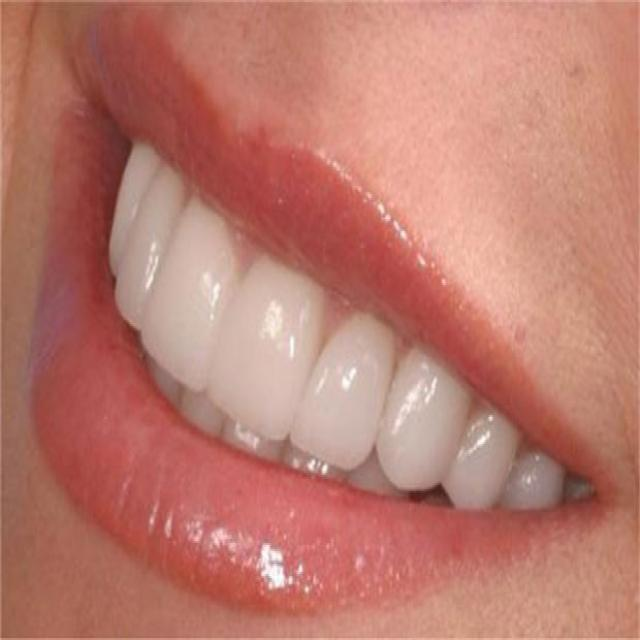tooth: (234, 271, 296, 419), (159, 202, 211, 362), (401, 344, 464, 469), (331, 322, 375, 456), (129, 173, 156, 314), (467, 406, 498, 506), (518, 444, 548, 504)
